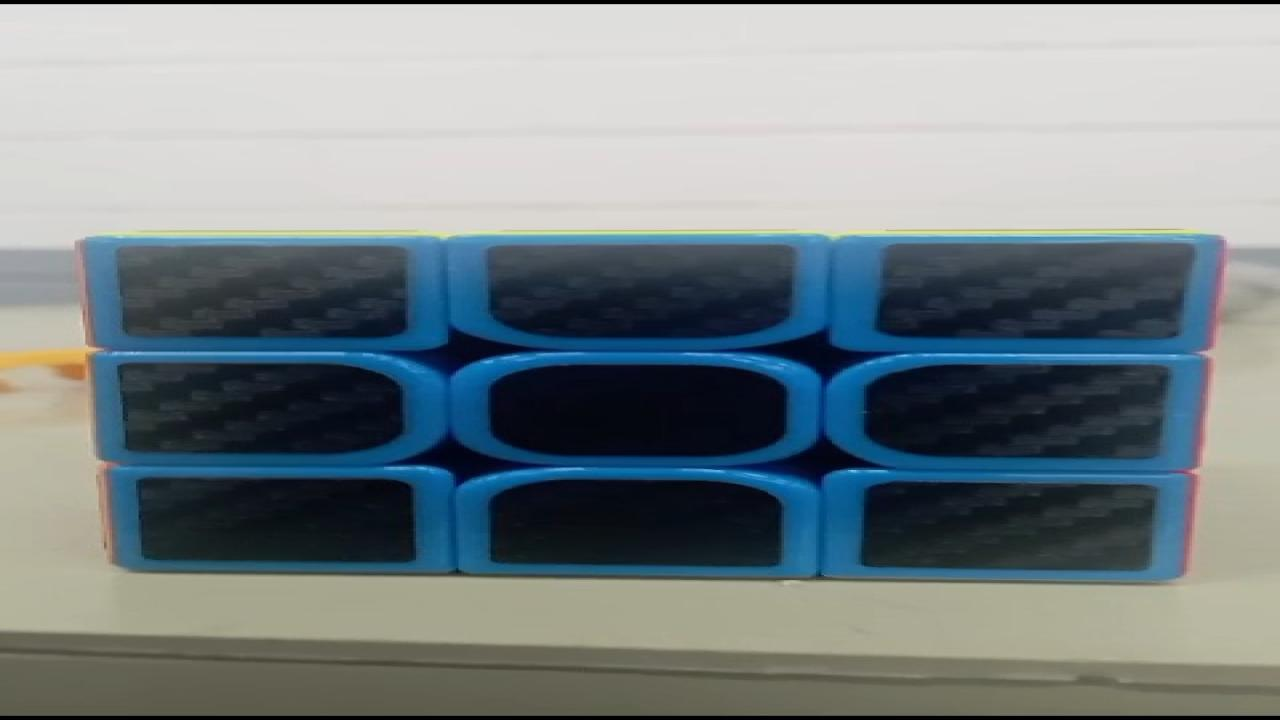Cube: (75, 228, 1229, 584)
